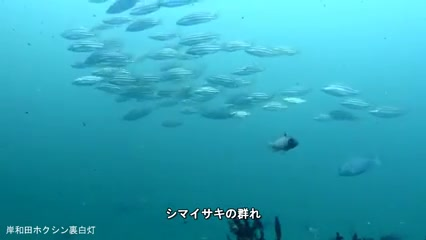smallfish: (334, 148, 384, 181), (360, 98, 413, 124), (320, 79, 366, 102), (266, 130, 304, 154), (175, 9, 221, 26)
